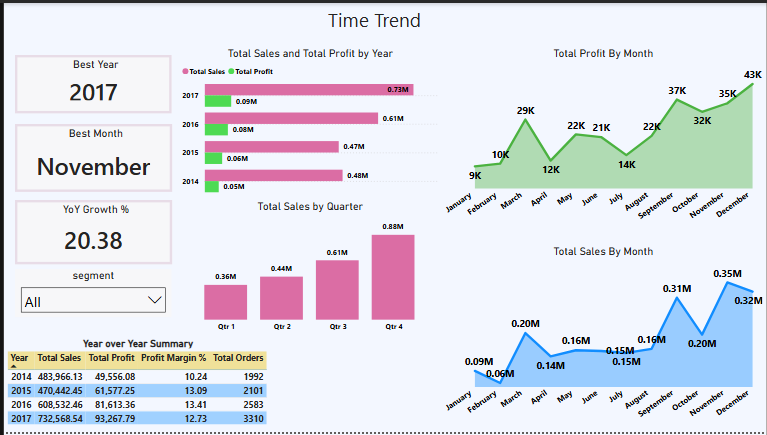

Layout of this report page (visuals, bound fields, positions):
{"tool":"powerbi","page":{"name":"Time Trend","canvas":[1280,720],"ordinal":4},"visuals":[{"type":"textbox","box":[371.2,0,502.3,72.2],"z":0},{"type":"cardVisual","title":"Best Year","fields":{"Data":["fact_sales.Best Year"]},"box":[18.9,87.1,263.2,98.5],"z":1000},{"type":"cardVisual","title":"Best Month","fields":{"Data":["fact_sales.Best Month"]},"box":[18.5,203.3,263.7,114.2],"z":2000},{"type":"cardVisual","title":"YoY Growth %","fields":{"Data":["fact_sales.YoY Growth %"]},"box":[18.5,330.9,263.7,107.5],"z":3000},{"type":"areaChart","title":"Total Sales By Month","fields":{"Category":["dim_date.full_date.Variation.Date Hierarchy.Month"],"Y":["fact_sales.Total Sales"]},"box":[734.7,407.1,545.3,310.5],"z":4000},{"type":"areaChart","title":"Total Profit By Month","fields":{"Category":["dim_date.full_date.Variation.Date Hierarchy.Month"],"Y":["fact_sales.Total Profit"]},"box":[734.7,73.8,545.3,310.5],"z":5000},{"type":"clusteredBarChart","title":"Total Sales and Total Profit by Year","fields":{"Y":["fact_sales.Total Sales","fact_sales.Total Profit"],"Category":["dim_date.full_date.Variation.Date Hierarchy.Year"]},"box":[293.5,73.8,441.2,257.5],"z":6000},{"type":"tableEx","title":"Year over Year Summary","fields":{"Values":["dim_date.full_date.Variation.Date Hierarchy.Year","fact_sales.Total Sales","fact_sales.Total Profit","fact_sales.Profit Margin %","fact_sales.Total Orders"]},"box":[0,561,450.2,156.2],"z":7000},{"type":"columnChart","title":"Total Sales by Quarter","fields":{"Category":["dim_date.full_date.Variation.Date Hierarchy.Quarter"],"Y":["fact_sales.Total Sales"]},"box":[293.5,331.4,441.2,231],"z":8000},{"type":"slicer","title":"segment","fields":{"Values":["dim_customer.segment"]},"box":[18.9,446.9,263.2,81.4],"z":10000}]}

Visuals, with their boxes in screenshot pixels (x1, y1, x2, y2), scaled from the page's 1280x720 canvas onto the 767x435 screenshot:
textbox: bbox=[222, 0, 523, 44]
"Best Year" cardVisual: bbox=[11, 53, 169, 112]
"Best Month" cardVisual: bbox=[11, 123, 169, 192]
"YoY Growth %" cardVisual: bbox=[11, 200, 169, 265]
"Total Sales By Month" areaChart: bbox=[440, 246, 766, 434]
"Total Profit By Month" areaChart: bbox=[440, 45, 766, 232]
"Total Sales and Total Profit by Year" clusteredBarChart: bbox=[176, 45, 440, 200]
"Year over Year Summary" tableEx: bbox=[0, 339, 270, 433]
"Total Sales by Quarter" columnChart: bbox=[176, 200, 440, 340]
"segment" slicer: bbox=[11, 270, 169, 319]
